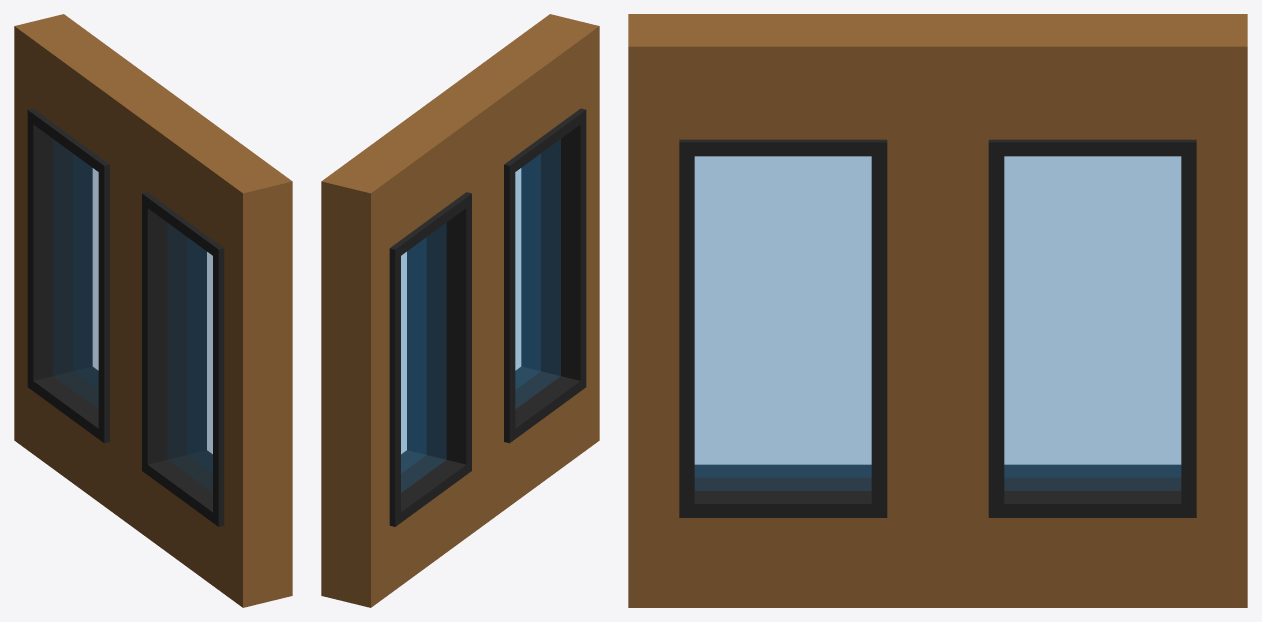
The model's file is WindowWallDouble.glb.
The picture shows the model from 3 angles, left to right: view 1: azimuth 30°, elevation 25°; view 2: azimuth 150°, elevation 25°; view 3: azimuth 270°, elevation 25°; orthographic projection. The views are drawn at different scales.
Visible parts, largest first — view 1: DoubleWindowWall-col; view 2: DoubleWindowWall-col; view 3: DoubleWindowWall-col.
Part boxes in pixels (<box>): DoubleWindowWall-col: <box>14,14,292,607</box>; DoubleWindowWall-col: <box>321,14,599,607</box>; DoubleWindowWall-col: <box>628,14,1247,607</box>.
Size of the model in its own units: 0.36 by 2.4 by 2.4.
